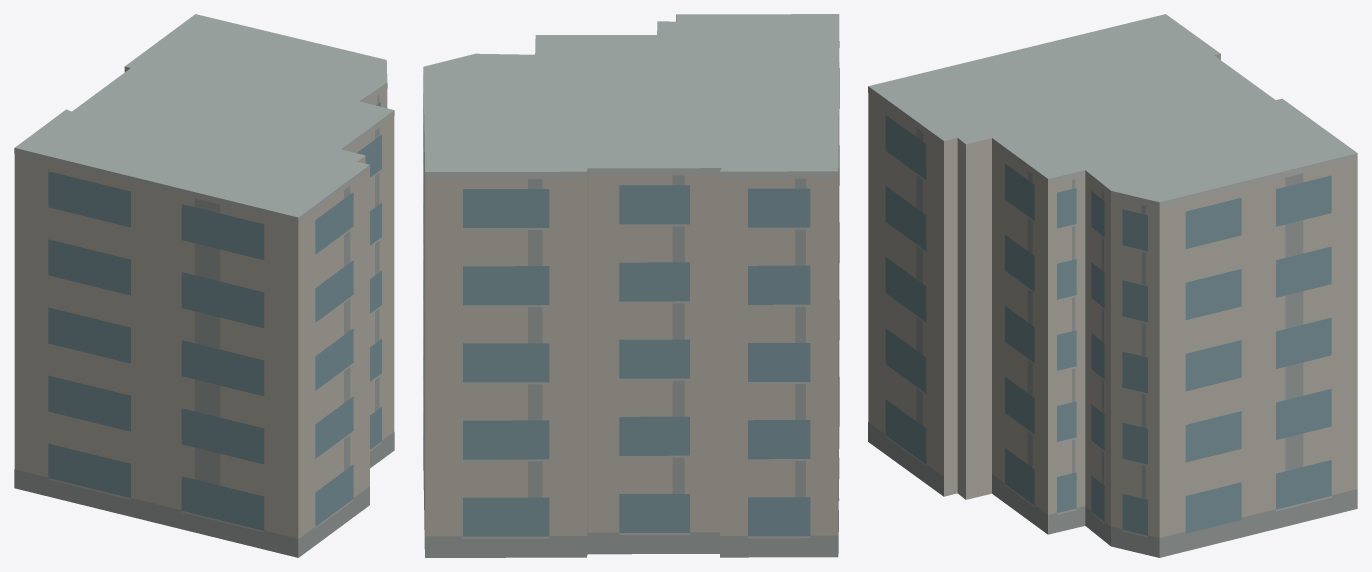
Rendered from survey-upis-33040759.glb.
3 views of the same model, side by side, from view 1: azimuth 30°, elevation 25°; view 2: azimuth 150°, elevation 25°; view 3: azimuth 270°, elevation 25° (orthographic). The views are drawn at different scales.
Visible parts, largest first — view 1: survey-upis-33040759.tmp; view 2: survey-upis-33040759.tmp; view 3: survey-upis-33040759.tmp.
Part boxes in pixels (x1=…): survey-upis-33040759.tmp: x1=14, y1=14, x2=394, y2=557; survey-upis-33040759.tmp: x1=423, y1=14, x2=839, y2=557; survey-upis-33040759.tmp: x1=868, y1=14, x2=1357, y2=557.
Size of the model in its own units: 14.99 by 13.2 by 16.48.
